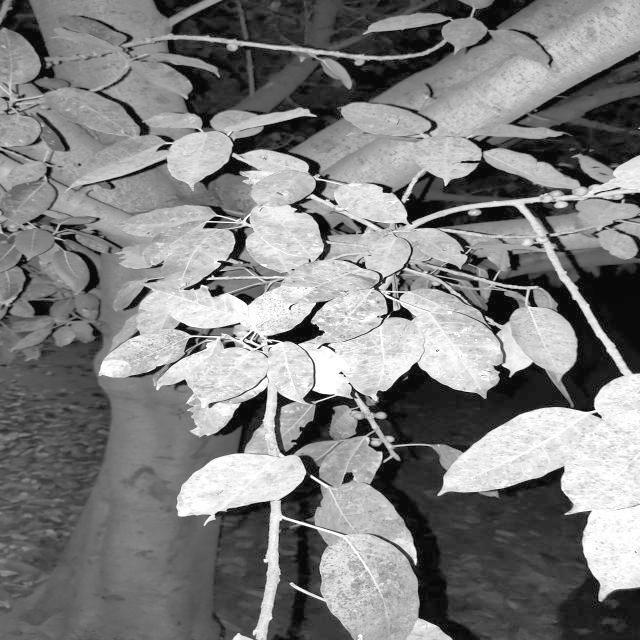Tree: (1, 0, 472, 640)
